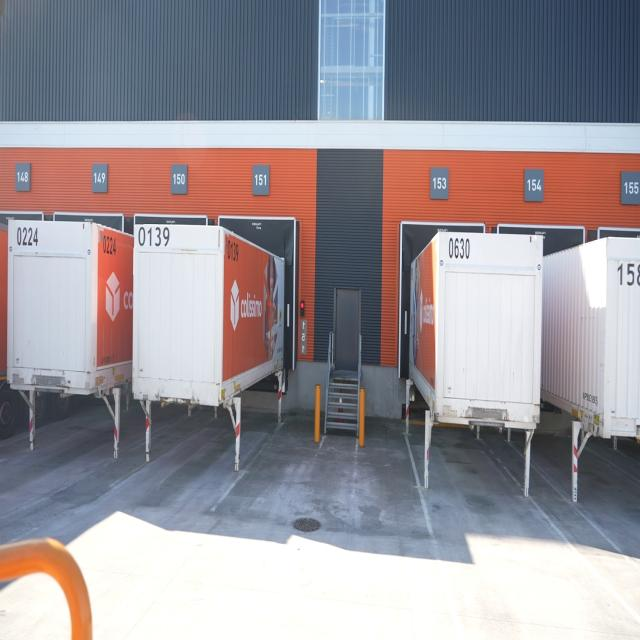Code: (132, 218, 172, 255), (15, 220, 42, 254), (448, 234, 473, 266), (95, 231, 118, 259), (225, 236, 242, 267)
